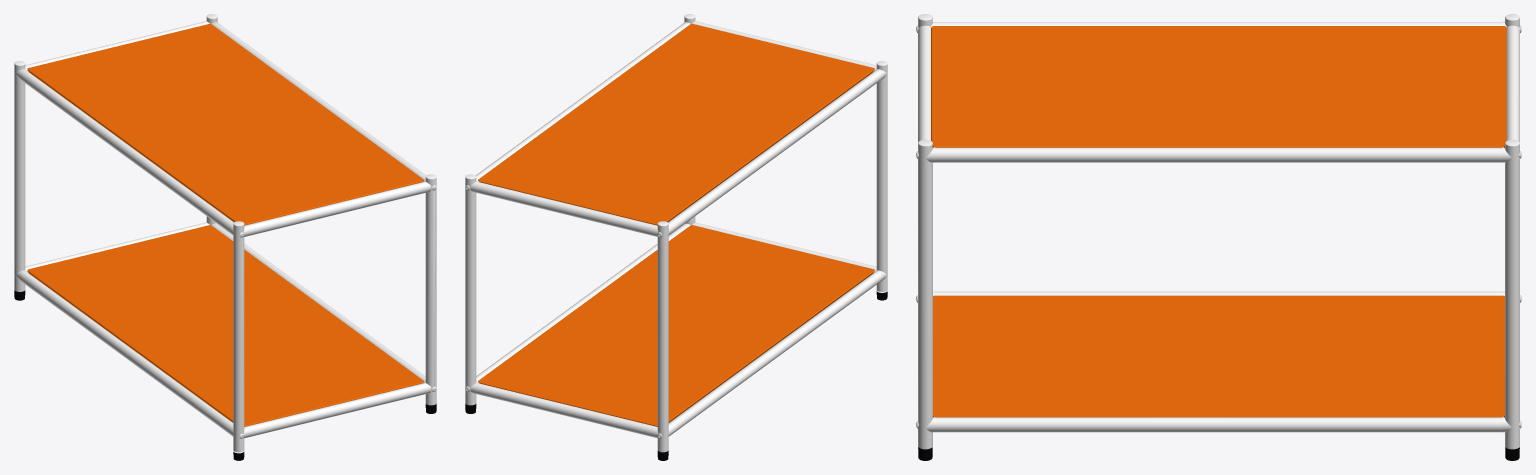
Rendered from 80x40x40-1-1-Orange_optimized_optimized.glb.
3 views of the same model, side by side, from view 1: azimuth 30°, elevation 25°; view 2: azimuth 150°, elevation 25°; view 3: azimuth 270°, elevation 25° (orthographic). The views are drawn at different scales.
Parts seen in each view (by area): view 1: 直角鐵板-80x40-5 - 零件, new-上塞-1 - 零件; view 2: 直角鐵板-80x40-5 - 零件, new-上塞-1 - 零件; view 3: 直角鐵板-80x40-5 - 零件, new-上塞-1 - 零件.
Part boxes in pixels (<box>): 直角鐵板-80x40-5 - 零件: <box>27,23,423,426</box>; new-上塞-1 - 零件: <box>14,14,436,460</box>; 直角鐵板-80x40-5 - 零件: <box>478,23,874,426</box>; new-上塞-1 - 零件: <box>465,14,887,452</box>; 直角鐵板-80x40-5 - 零件: <box>931,26,1506,417</box>; new-上塞-1 - 零件: <box>916,14,1521,449</box>.
Size of the model in its own units: 0.3992 by 0.4453 by 0.7732.
